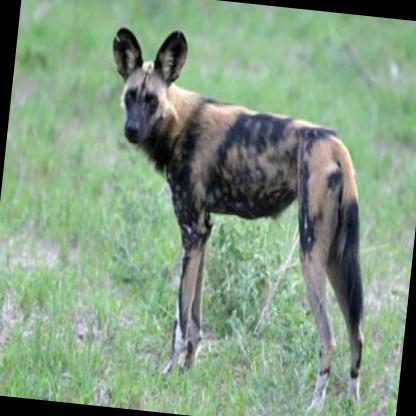African_hunting_dog: (72, 22, 393, 416)
